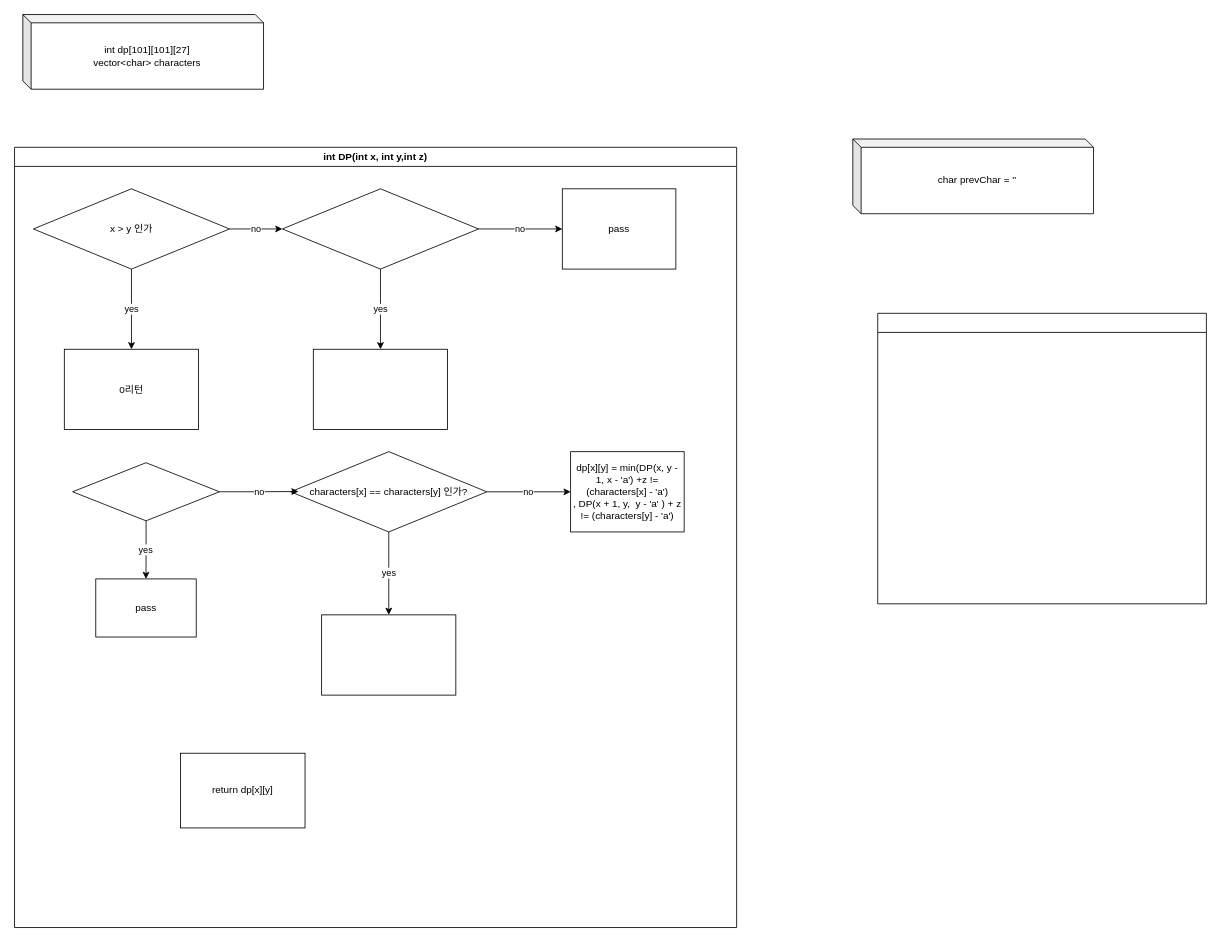
This 1221x942 diagram has some shape labels left out. Here are the shapes that lost their labels. From the top down, the centre of each, then its label:
At (380,228): "x ==y인가".
At (380,389): "z != (characters[x] - 'a')리턴".
At (1041,458): "중복없는 문자배열 만드는 코드".
At (145,491): "dp[x][y]가 있나".
At (388,654): "dp[x][y] = DP(x + 1, y - 1) + 1".
